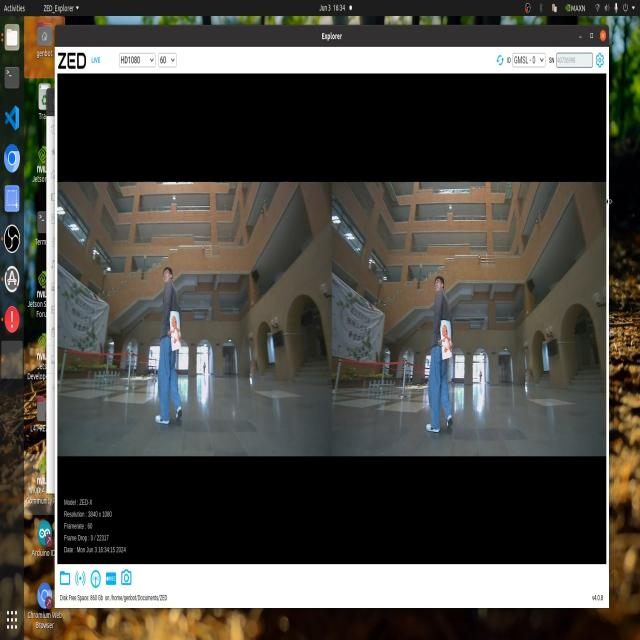red: (169, 306, 189, 351), (440, 325, 450, 354)
